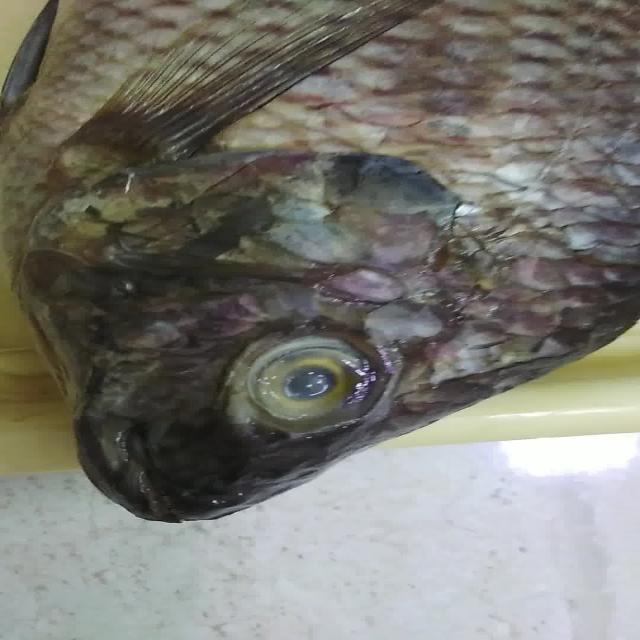Non-Fresh: (26, 61, 616, 316), (209, 326, 393, 446)
